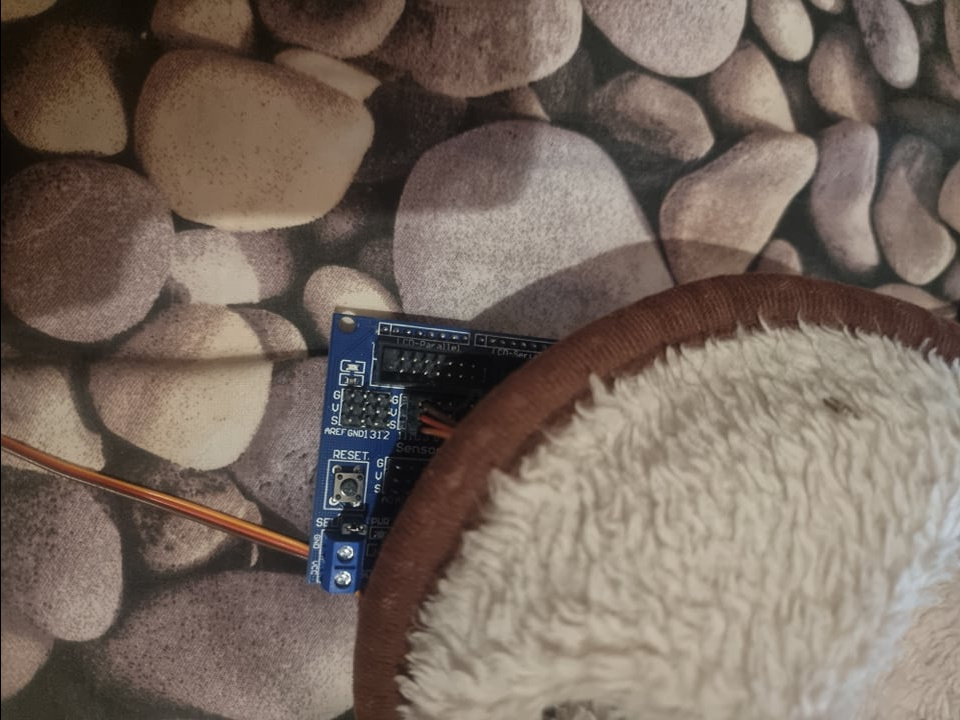5V EXPANSION: (301, 307, 576, 595)
